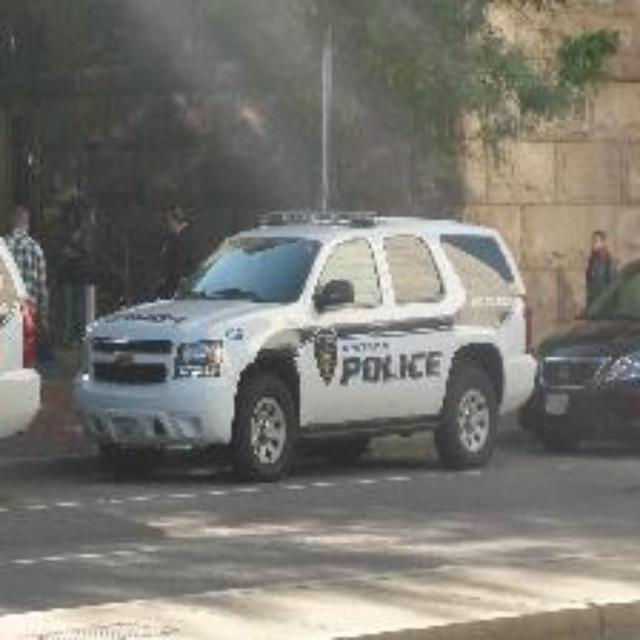emergency: (72, 209, 540, 469)
